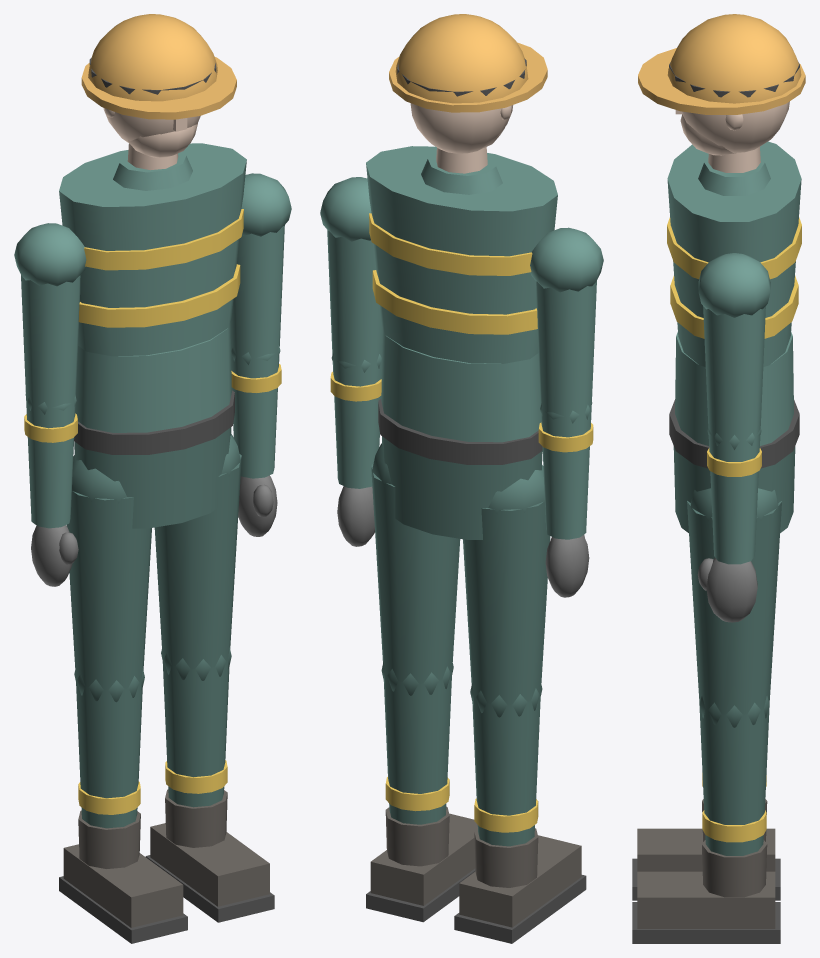
Rendered from mech_B.glb.
The picture shows the model from 3 angles, left to right: view 1: azimuth 30°, elevation 25°; view 2: azimuth 150°, elevation 25°; view 3: azimuth 270°, elevation 25°; orthographic projection. The views are drawn at different scales.
Parts seen in each view (by area): view 1: chest, head, hip_R, hip_L, spine, pelvis, ankle_R, shoulder_R, ankle_L, knee_R, knee_L, shoulder_L (+5 smaller); view 2: chest, hip_R, head, hip_L, spine, pelvis, shoulder_R, ankle_R, knee_L, knee_R, ankle_L, shoulder_L (+5 smaller); view 3: chest, head, hip_L, ankle_L, shoulder_L, knee_L, elbow_L, pelvis, spine, ankle_R, wrist_L, neck.
Boxes of the visible parts, x1,y1,x2,y2 form: chest: (59, 143, 246, 356); head: (81, 14, 236, 157); hip_R: (66, 455, 151, 690); hip_L: (154, 434, 241, 669); spine: (75, 322, 231, 432); pelvis: (74, 390, 234, 528); ankle_R: (59, 810, 187, 943); shoulder_R: (14, 223, 86, 408); ankle_L: (145, 789, 274, 922); knee_R: (74, 668, 144, 828); knee_L: (161, 647, 231, 807); shoulder_L: (230, 173, 291, 358); chest: (366, 146, 557, 363); hip_R: (463, 465, 550, 705); head: (389, 14, 547, 153); hip_L: (371, 443, 460, 683); spine: (381, 328, 541, 442); pelvis: (378, 399, 542, 539); shoulder_R: (530, 227, 603, 416); ankle_R: (454, 828, 586, 943); knee_L: (381, 661, 453, 824); knee_R: (470, 683, 542, 846); ankle_L: (366, 806, 477, 922); shoulder_L: (320, 177, 382, 365); chest: (667, 141, 801, 366); head: (638, 14, 805, 155); hip_L: (687, 488, 781, 714); ankle_L: (632, 840, 780, 943); shoulder_L: (698, 253, 770, 441); knee_L: (699, 696, 769, 855); elbow_L: (707, 428, 761, 564); pelvis: (669, 399, 799, 533); spine: (675, 331, 793, 445); ankle_R: (632, 799, 780, 900); wrist_L: (697, 558, 757, 622); neck: (708, 147, 760, 172).
Bounding box in the file's own units: 0.6182 × 1.92 × 0.3392.
